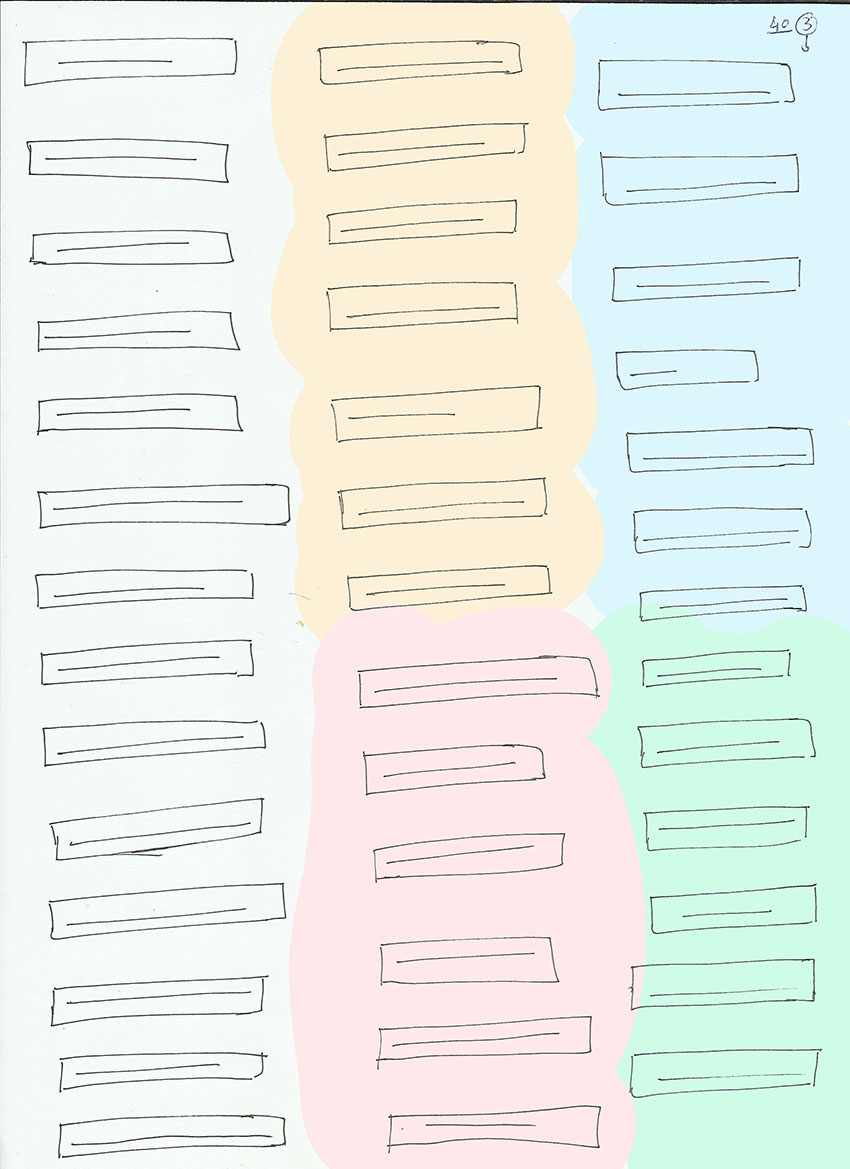edit_text: (44, 879, 292, 944), (46, 794, 267, 863), (354, 653, 602, 712), (326, 381, 545, 444), (373, 1013, 596, 1071), (33, 481, 294, 530), (45, 973, 273, 1029), (333, 474, 549, 533), (19, 34, 241, 91), (596, 147, 802, 208), (37, 716, 269, 769), (383, 1103, 605, 1158), (593, 55, 796, 115), (323, 277, 525, 336), (320, 121, 530, 175), (54, 1113, 288, 1161), (625, 1046, 825, 1102), (38, 637, 257, 688), (358, 742, 550, 800), (371, 830, 568, 886), (23, 134, 235, 185), (626, 956, 819, 1012), (377, 933, 563, 991), (342, 562, 556, 612), (314, 37, 523, 88), (33, 306, 243, 356), (621, 422, 817, 475), (30, 566, 260, 611), (610, 253, 805, 306), (635, 715, 819, 771), (33, 390, 245, 438), (643, 881, 820, 938), (55, 1049, 268, 1096), (323, 197, 520, 247), (630, 505, 814, 558), (26, 228, 238, 271), (639, 803, 814, 853), (612, 346, 762, 394), (636, 583, 811, 623), (638, 647, 793, 688)
